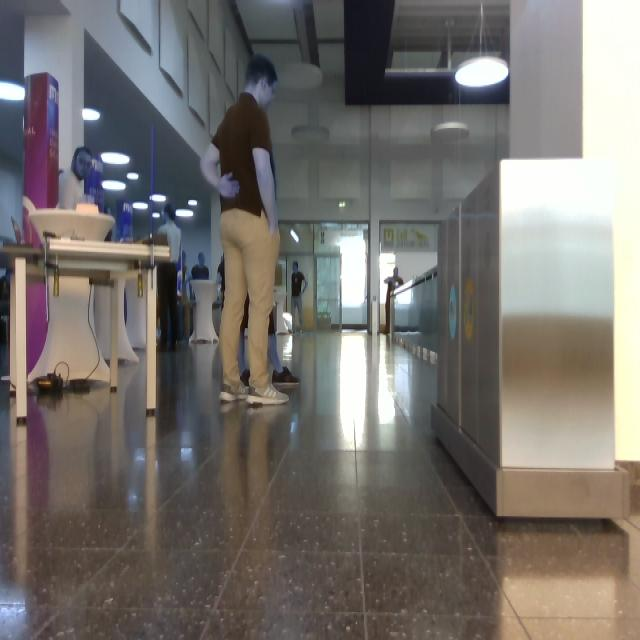door: (314, 224, 368, 329)
light bulb: (455, 57, 509, 88), (432, 122, 470, 144), (1, 81, 24, 101), (101, 153, 130, 165), (291, 229, 300, 244), (151, 194, 167, 202), (154, 213, 160, 218)
person: (201, 56, 289, 405), (158, 205, 181, 350), (385, 268, 404, 334), (294, 262, 308, 332)
table: (1, 238, 169, 424), (29, 277, 110, 382), (30, 205, 114, 245)
tiled floor: (1, 334, 640, 640)
trash bin: (432, 160, 628, 517)
